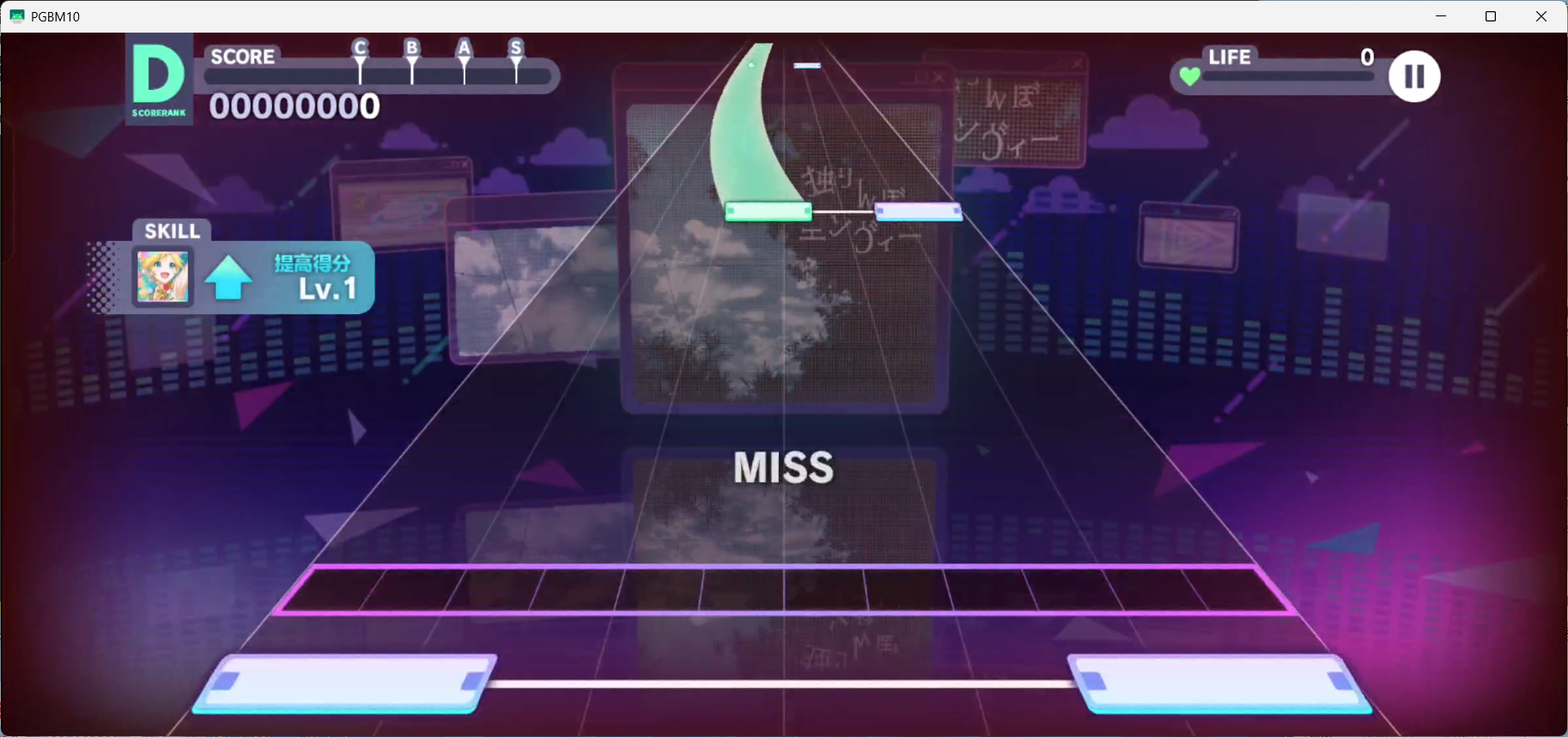hold: (709, 43, 805, 202)
tap: (1067, 654, 1376, 715), (190, 655, 498, 715), (873, 202, 964, 221), (725, 202, 811, 222), (793, 63, 821, 69)
